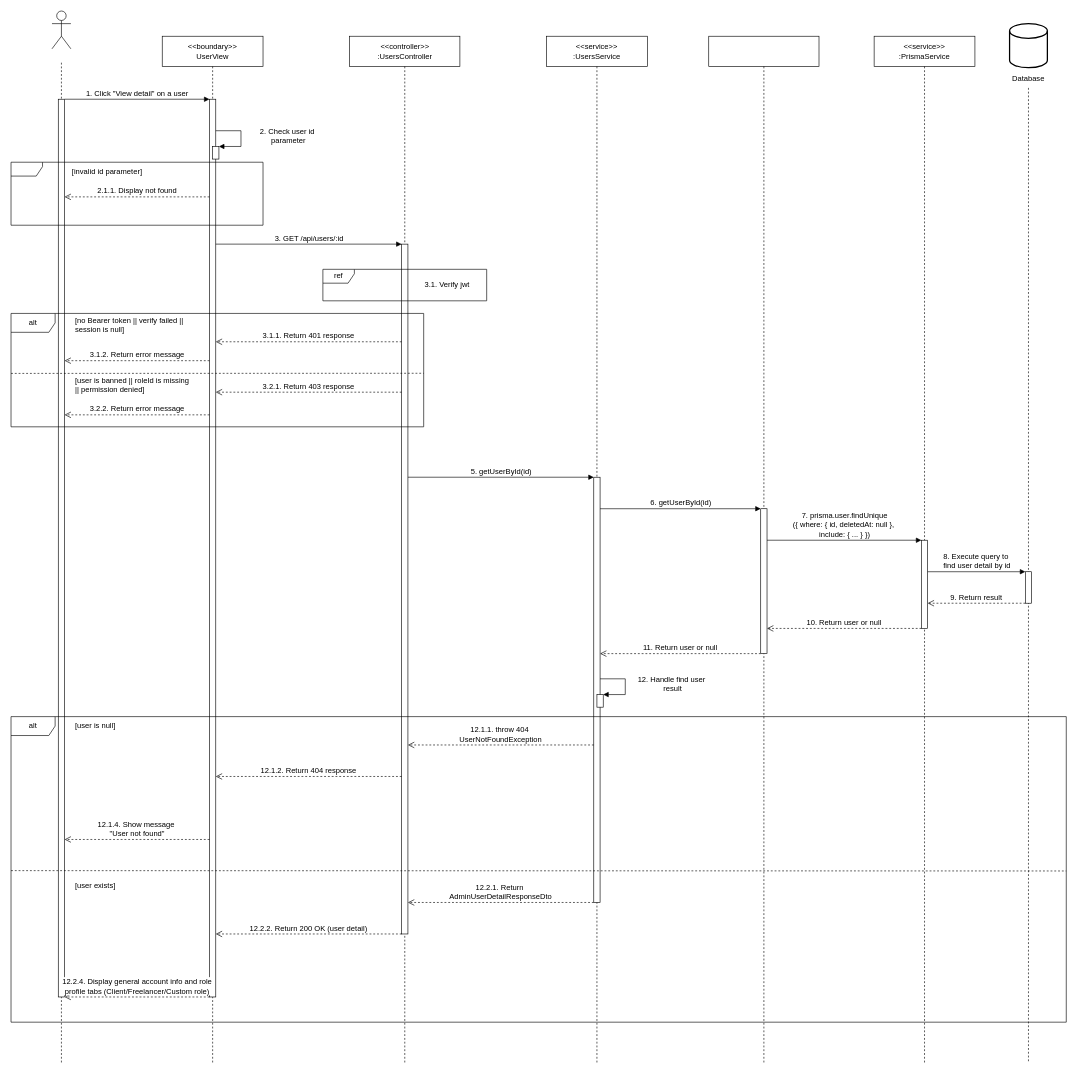
Image size: 1078x1075. Some labels were removed from this diagram. Each missing label, with the box of its shape:
<<repository>> :UsersRepository: (708, 36, 819, 1063)
Admin: (51, 10, 71, 49)
opt: (10, 162, 263, 225)
